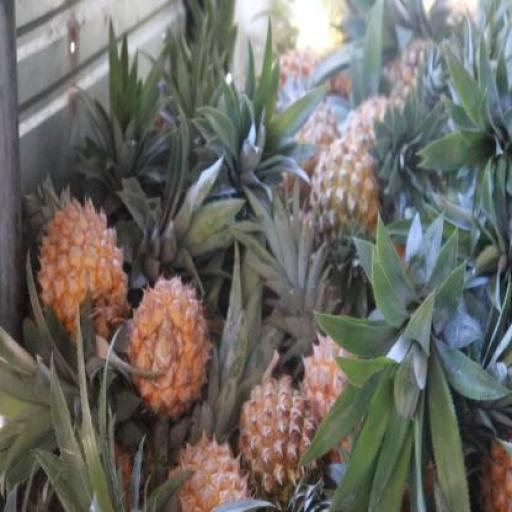Pineapple - v8 v1: (38, 202, 128, 348), (128, 282, 206, 416), (238, 380, 315, 511), (167, 432, 250, 512)
